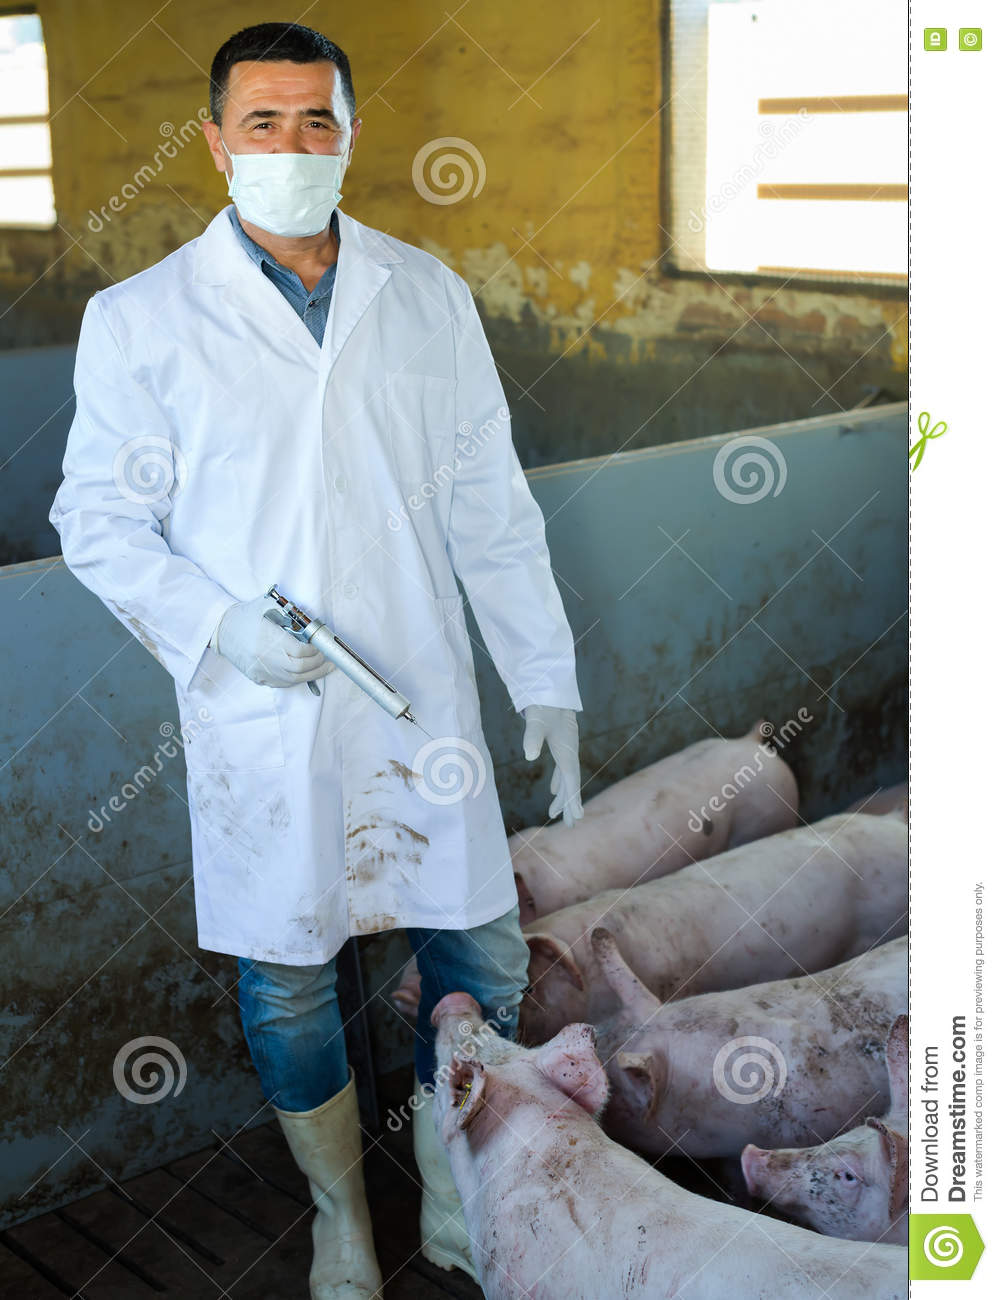mask: (227, 147, 347, 236)
